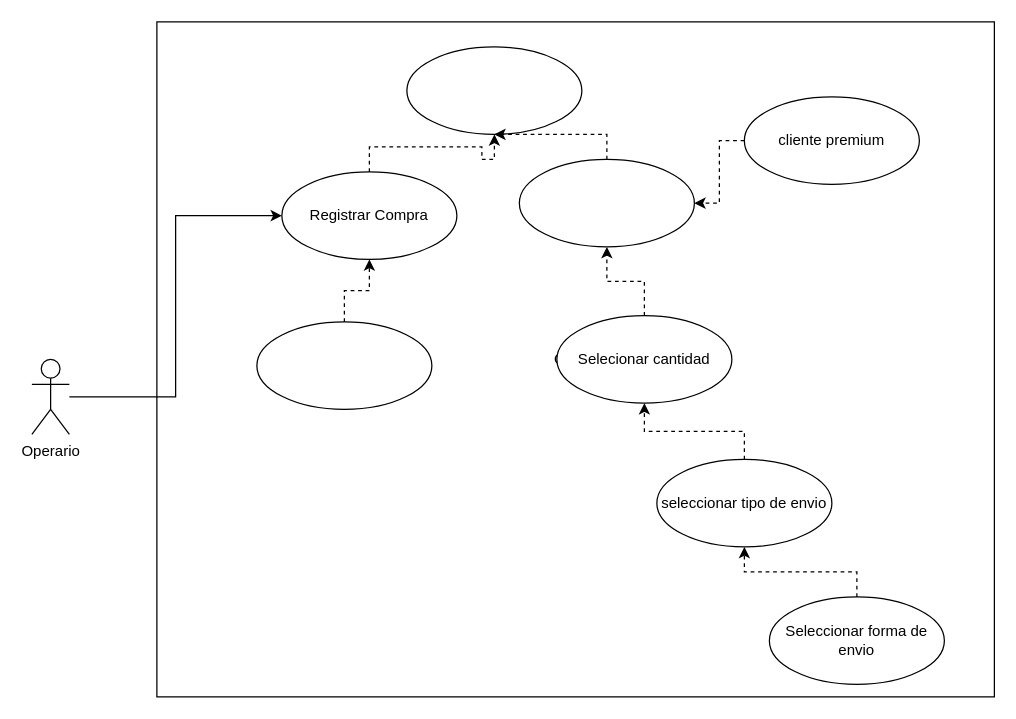
The diagram is 1016 pixels wide and 719 high, and some of its shapes have lost their labels. The shapes that lost their labels are listed below. From the top down, each one's centre as x and y in pixels, then its label:
[494,90]: Definir cliente
[606,202]: Selecionar producto
[344,365]: ver lista de compras
